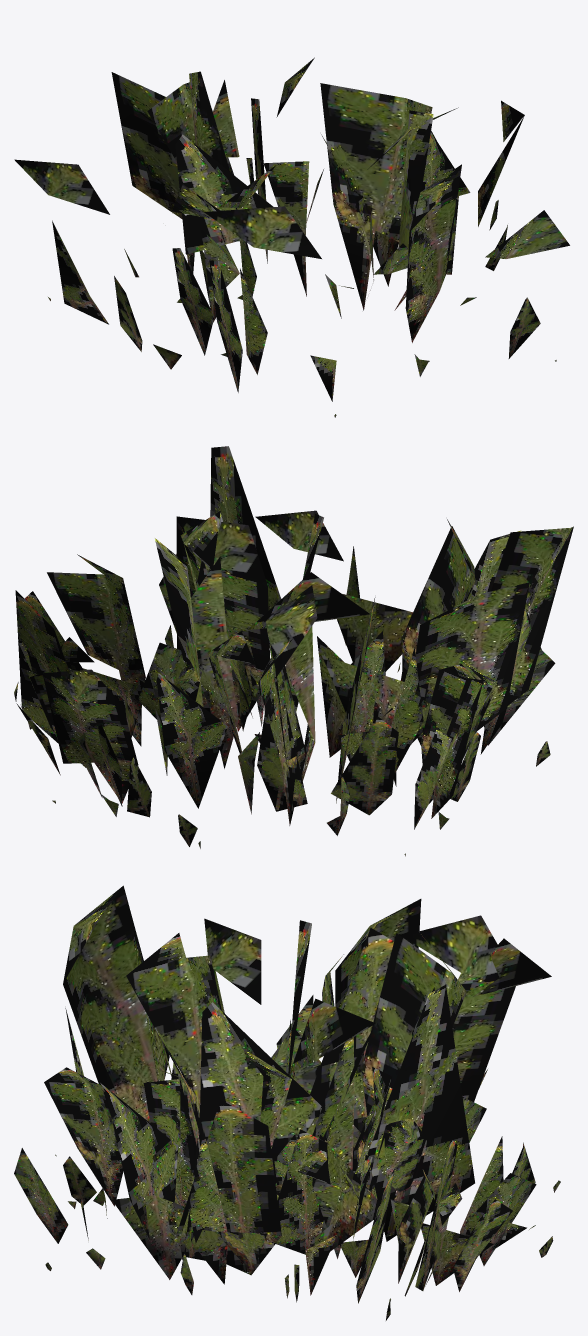
File: NAT_Grass_Pack_A-transformed.glb
3 renders of one model, top to bottom at view 1: azimuth 30°, elevation 25°; view 2: azimuth 150°, elevation 25°; view 3: azimuth 270°, elevation 25°, orthographic. The views are drawn at different scales.
Visible parts, largest first — view 1: default; view 2: default; view 3: default.
Part boxes in pixels (left/top/right/bottom): default: left=14, top=57, right=569, bottom=417; default: left=14, top=446, right=573, bottom=856; default: left=14, top=885, right=560, bottom=1320.
Bounding box in the file's own units: 0.6686 × 0.3398 × 0.6412.
1 material, 1 textured.
